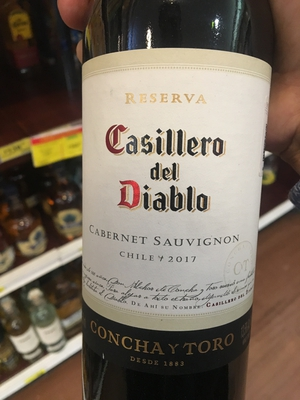casillero del diablo cabernet sauvignon: (73, 3, 281, 400)
